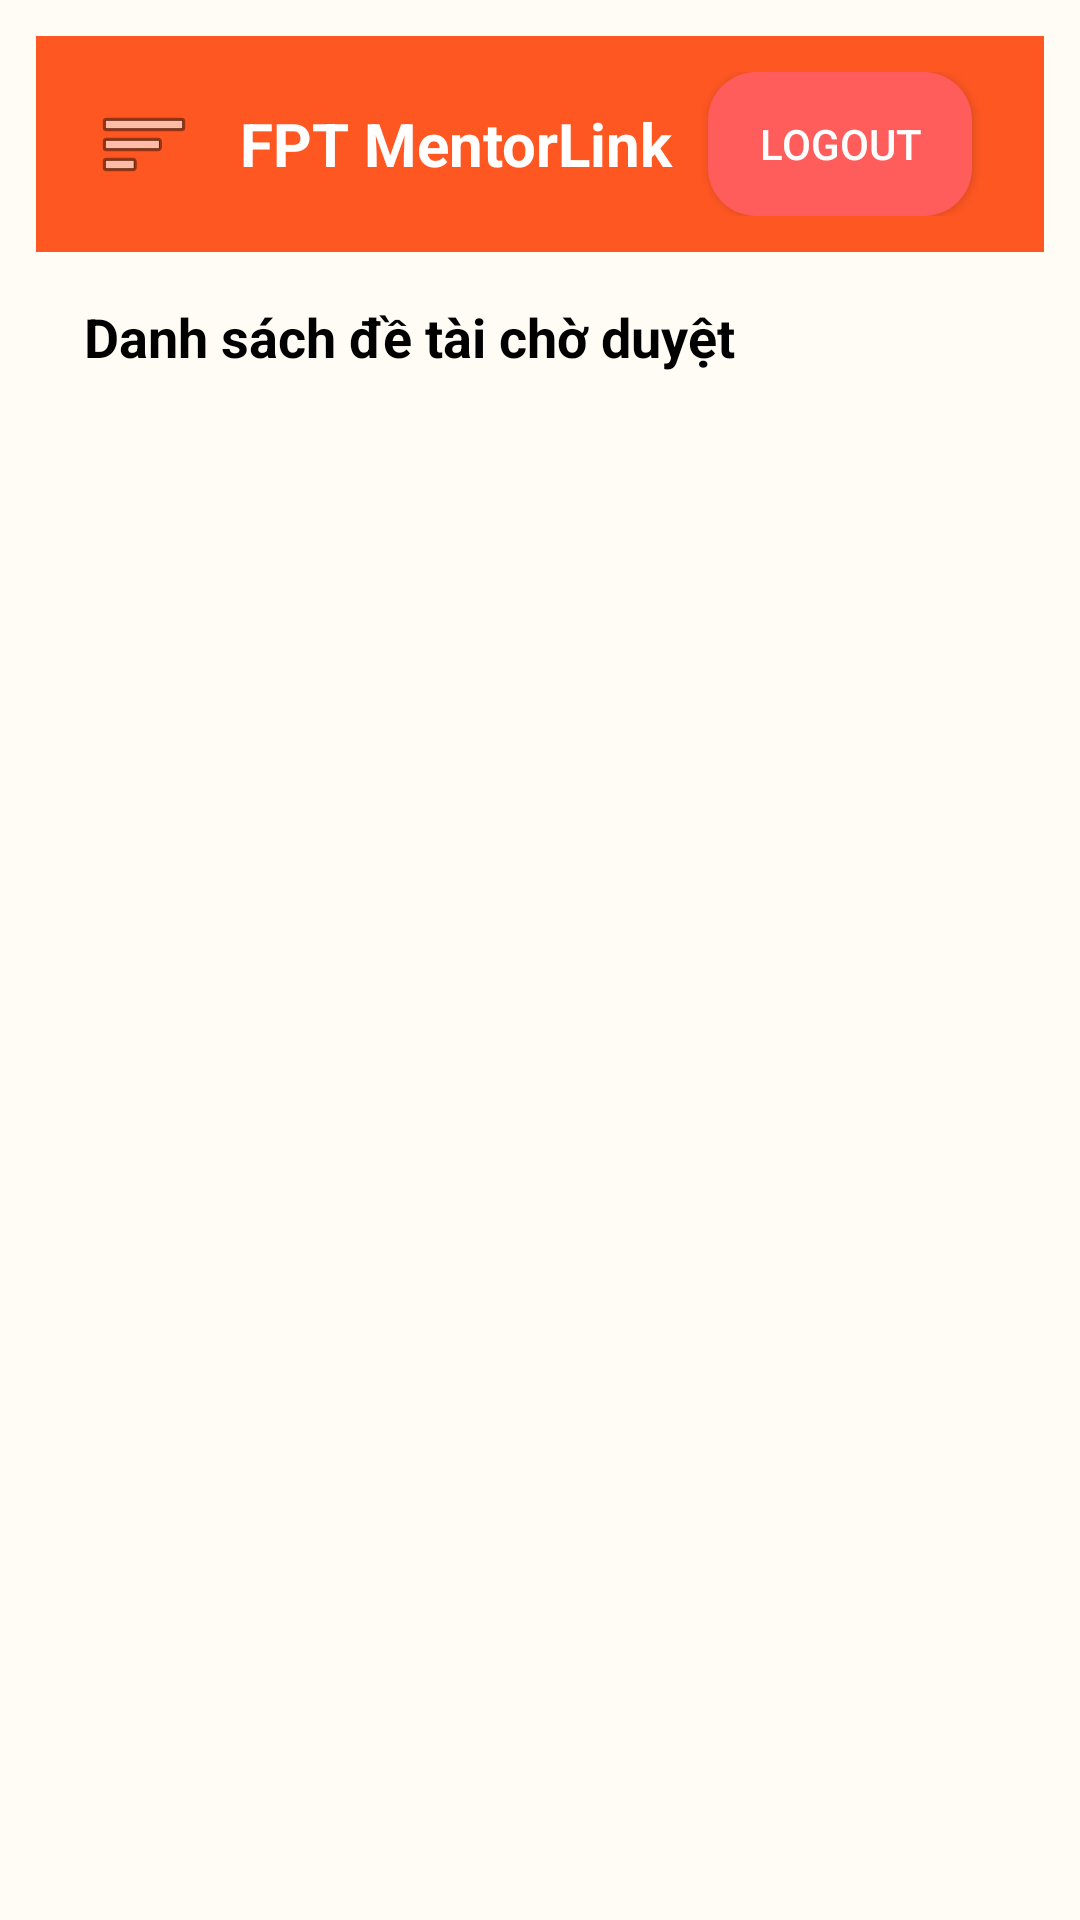

Named icons in this screenshot (1080 × 1920) and their centers, (x=x, y=y):
Menu: (x=144, y=144)
